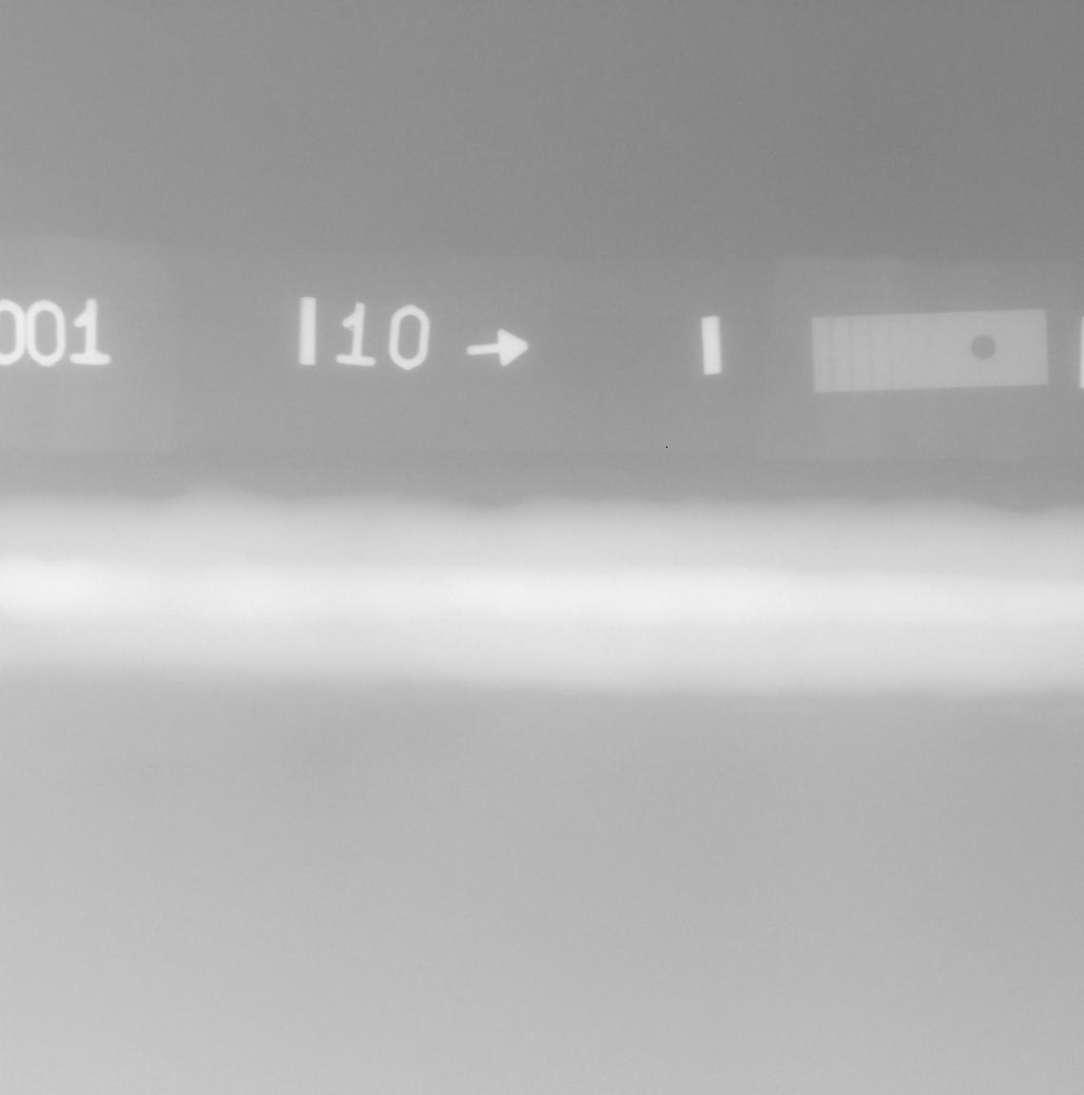Reference Standard 1: (810, 310, 1049, 392)
